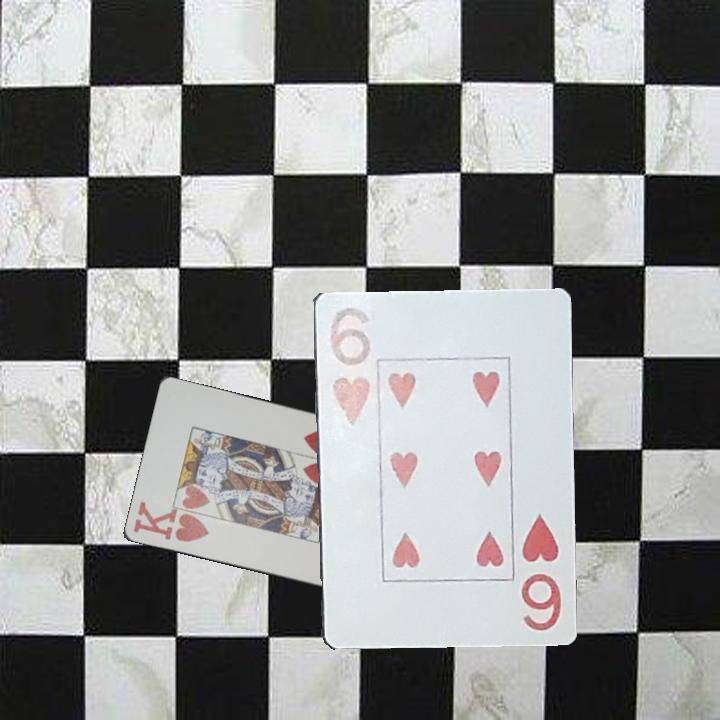6h: (322, 303, 373, 429), (517, 510, 564, 634)
Kh: (129, 500, 212, 545)
